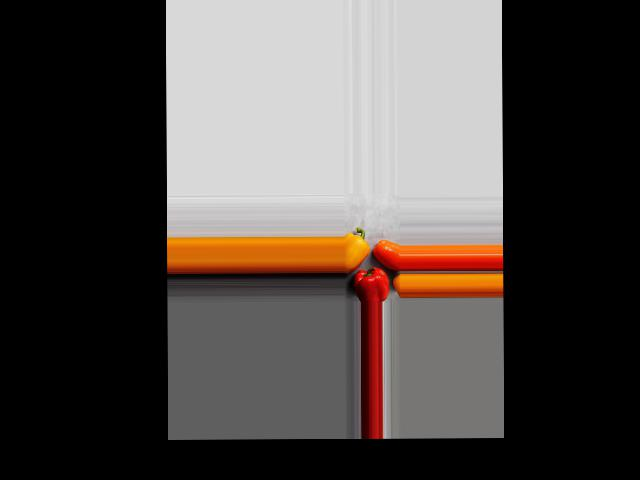bell_pepper: (351, 266, 389, 301)
